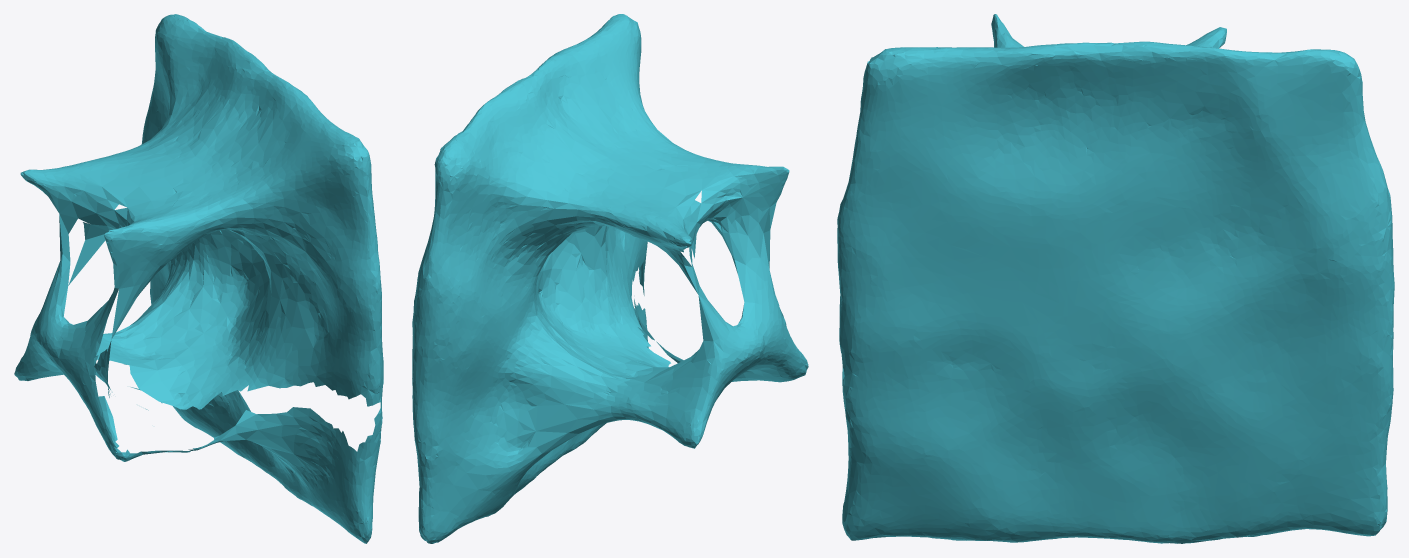
3 views of the same model, side by side, from view 1: azimuth 30°, elevation 25°; view 2: azimuth 150°, elevation 25°; view 3: azimuth 270°, elevation 25° (orthographic). The views are drawn at different scales.
Visible parts, largest first — view 1: Renderer Node; view 2: Renderer Node; view 3: Renderer Node.
Boxes of the visible parts, left/top/right/bottom form: Renderer Node: left=14, top=14, right=383, bottom=543; Renderer Node: left=412, top=14, right=808, bottom=543; Renderer Node: left=837, top=14, right=1394, bottom=543.
Size of the model in its own units: 0.3941 by 0.6242 by 0.6273.
Materials: 1 (1 with a texture image).
